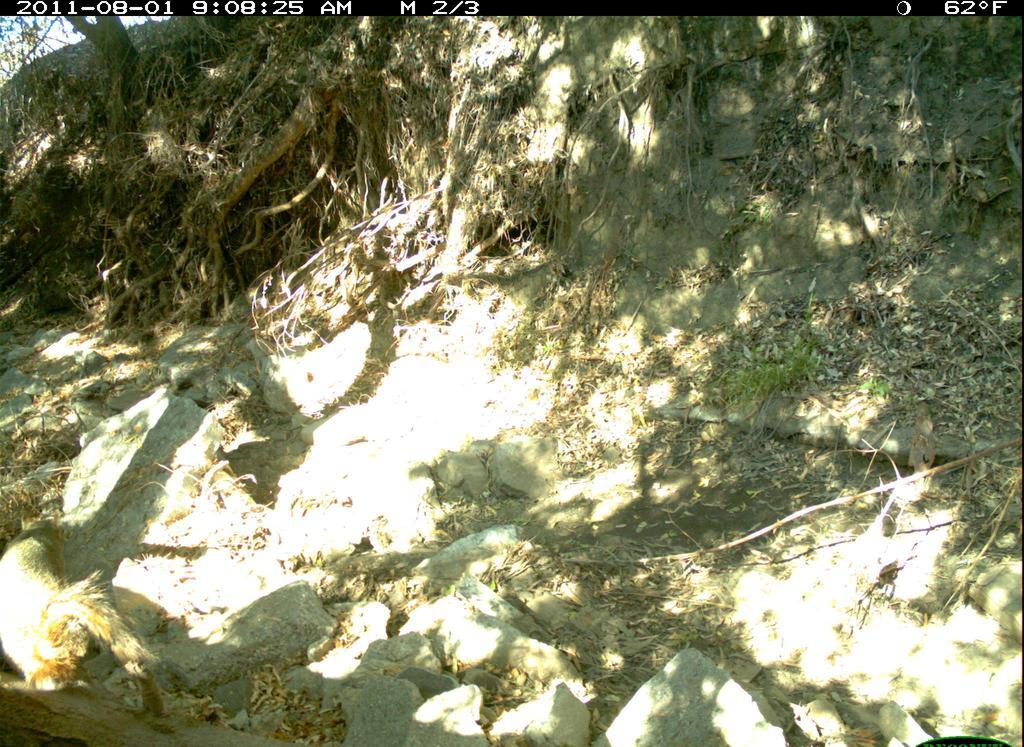squirrel: (1, 510, 173, 722)
